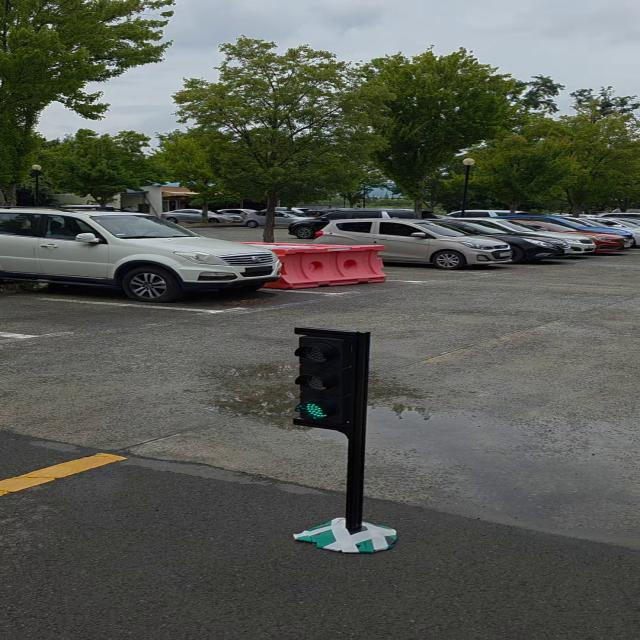green: (293, 329, 369, 431)
